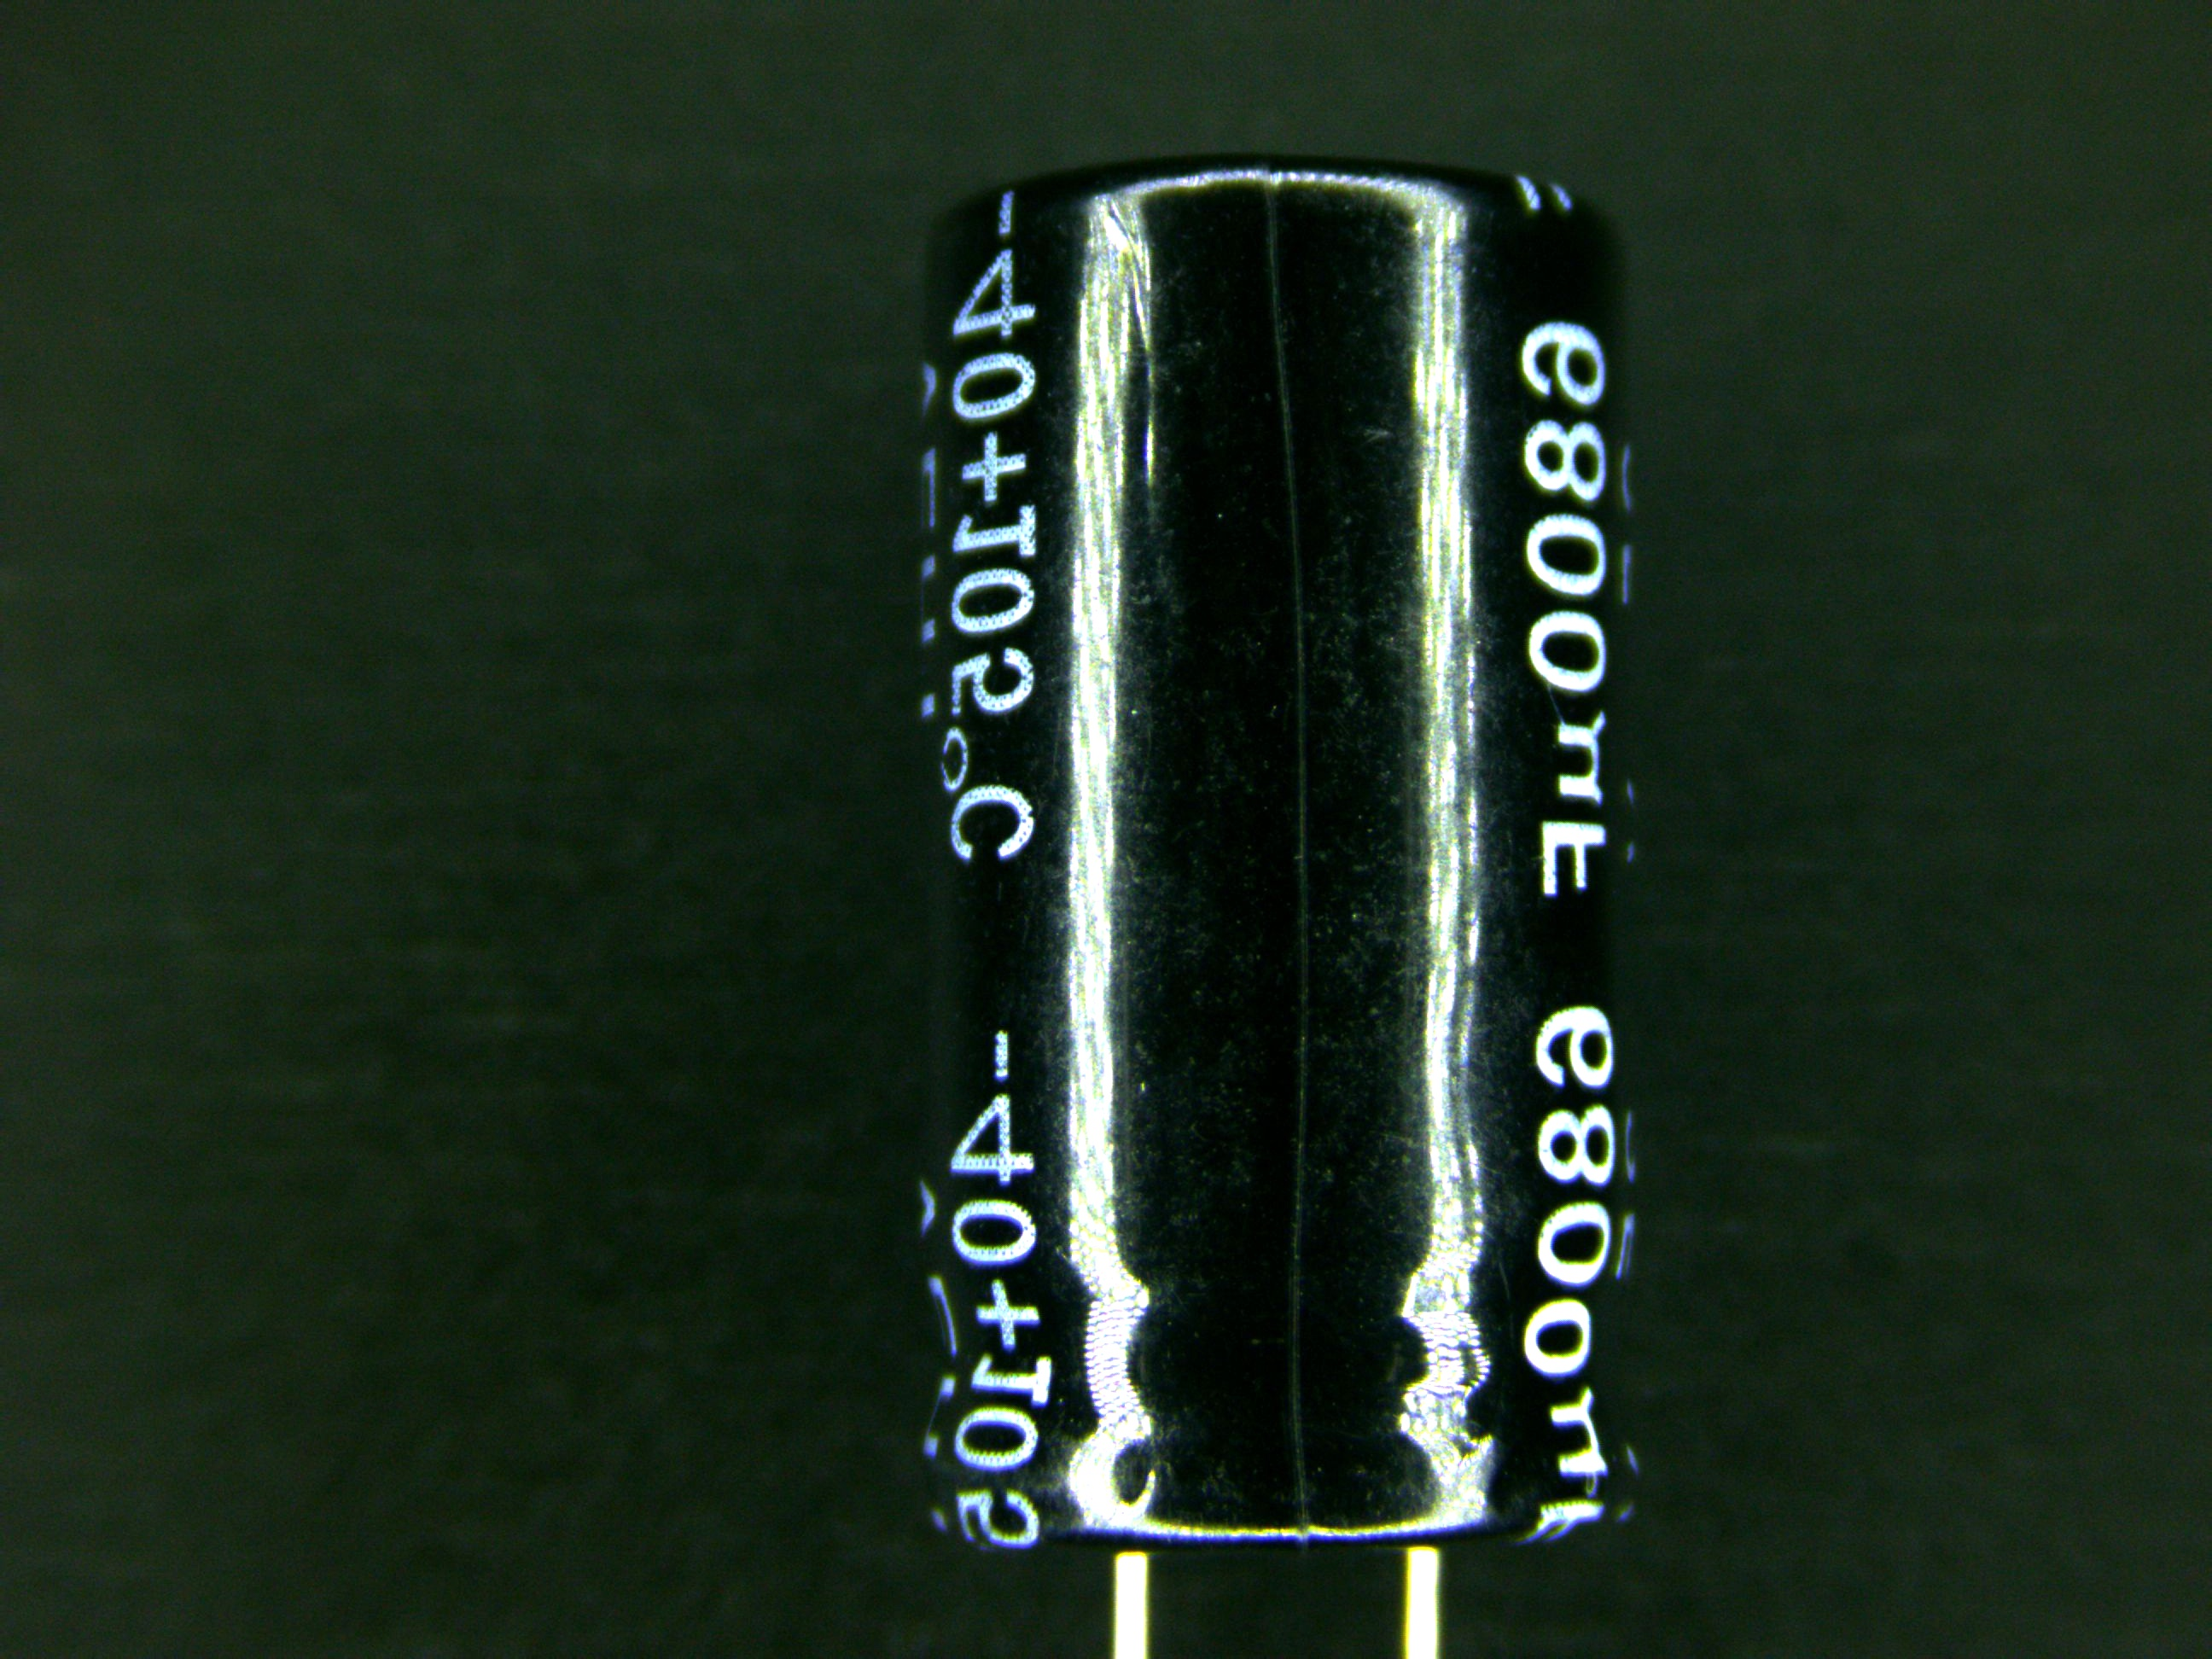c3: (907, 157, 1648, 1633)
